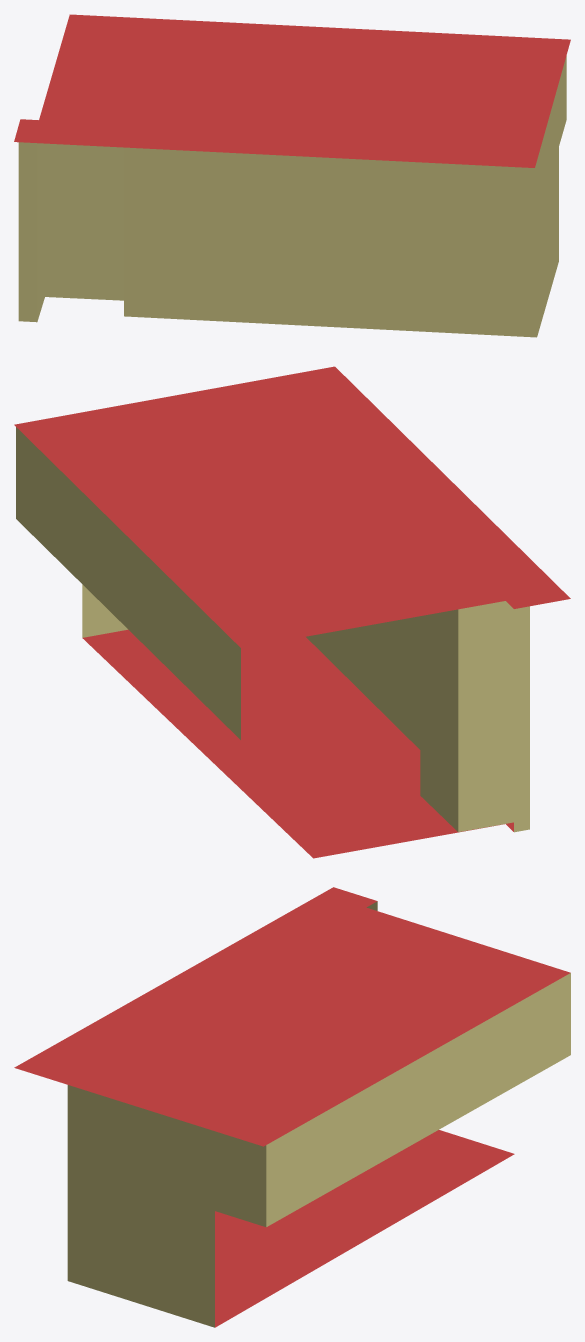
3 renders of one model, top to bottom at view 1: azimuth 30°, elevation 25°; view 2: azimuth 150°, elevation 25°; view 3: azimuth 270°, elevation 25°, orthographic. The views are drawn at different scales.
Visible parts, largest first — view 1: group_5, group_3, group_4; view 2: group_3, group_5, group_6, group_4; view 3: group_3, group_5, group_6, group_4.
Boxes of the visible parts, x1,y1,x2,y2 form: group_5: [18, 56, 566, 337]; group_3: [14, 14, 570, 167]; group_4: [15, 101, 535, 167]; group_3: [14, 366, 570, 648]; group_5: [16, 427, 529, 832]; group_6: [82, 629, 513, 858]; group_4: [273, 368, 569, 608]; group_3: [14, 887, 570, 1146]; group_5: [67, 901, 570, 1327]; group_6: [215, 1130, 514, 1327]; group_4: [18, 888, 399, 1081].
Bounding box in the file's own units: 23.94 × 21.72 × 8.56.
